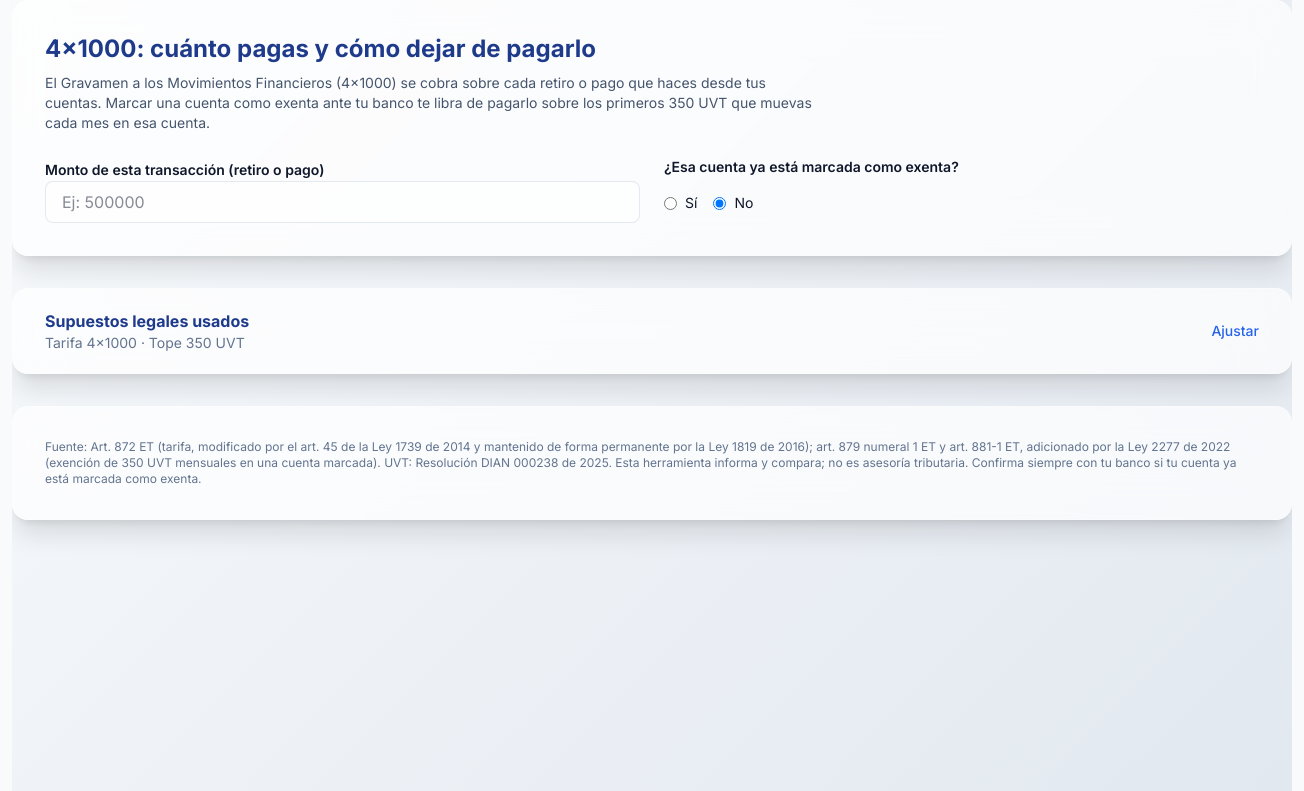
Test case: CalculadoraGMF › sin cuenta marcada y con excedente sobre el tope, avisa cuánto se podría ahorrar en esa transacción
In the number field labelled "Monto de esta transacción (retiro o pago)": (342, 202) [45,181,640,223], type "20000000"
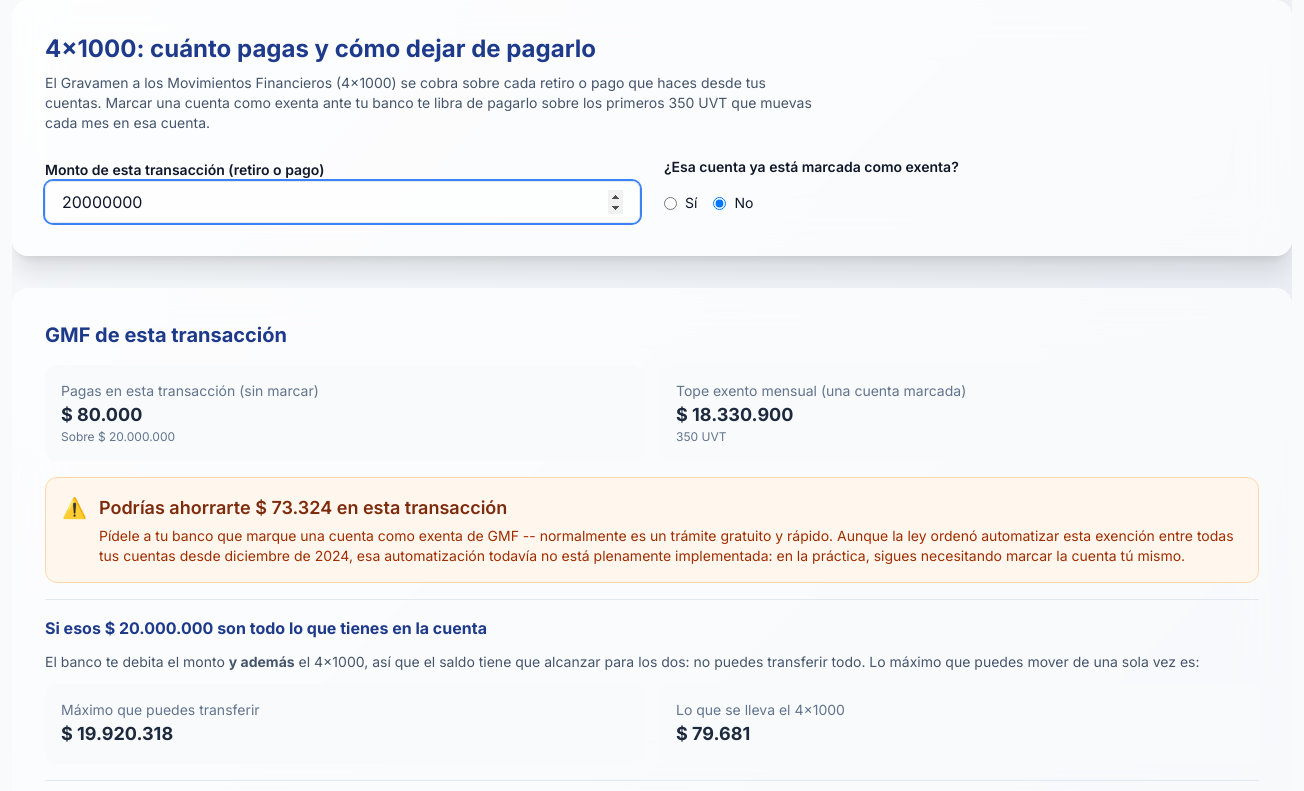
Result: the text "Podrías ahorrarte $ 73.324 en esta transacción" is shown at [99,497,507,518]
